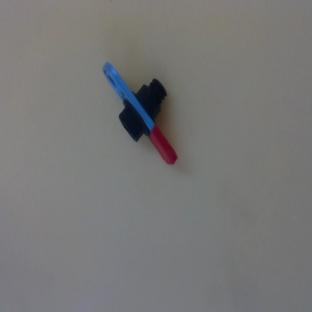part_1_good: (101, 47, 188, 176)
